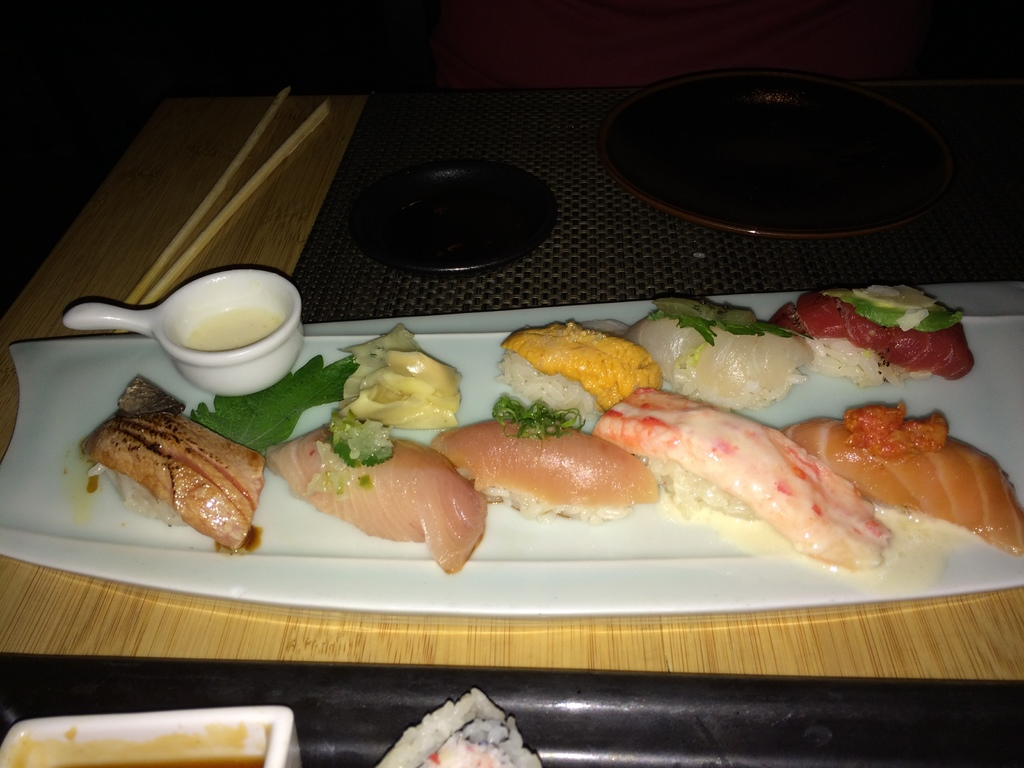sushi: (80, 277, 1023, 564), (443, 412, 663, 545)
